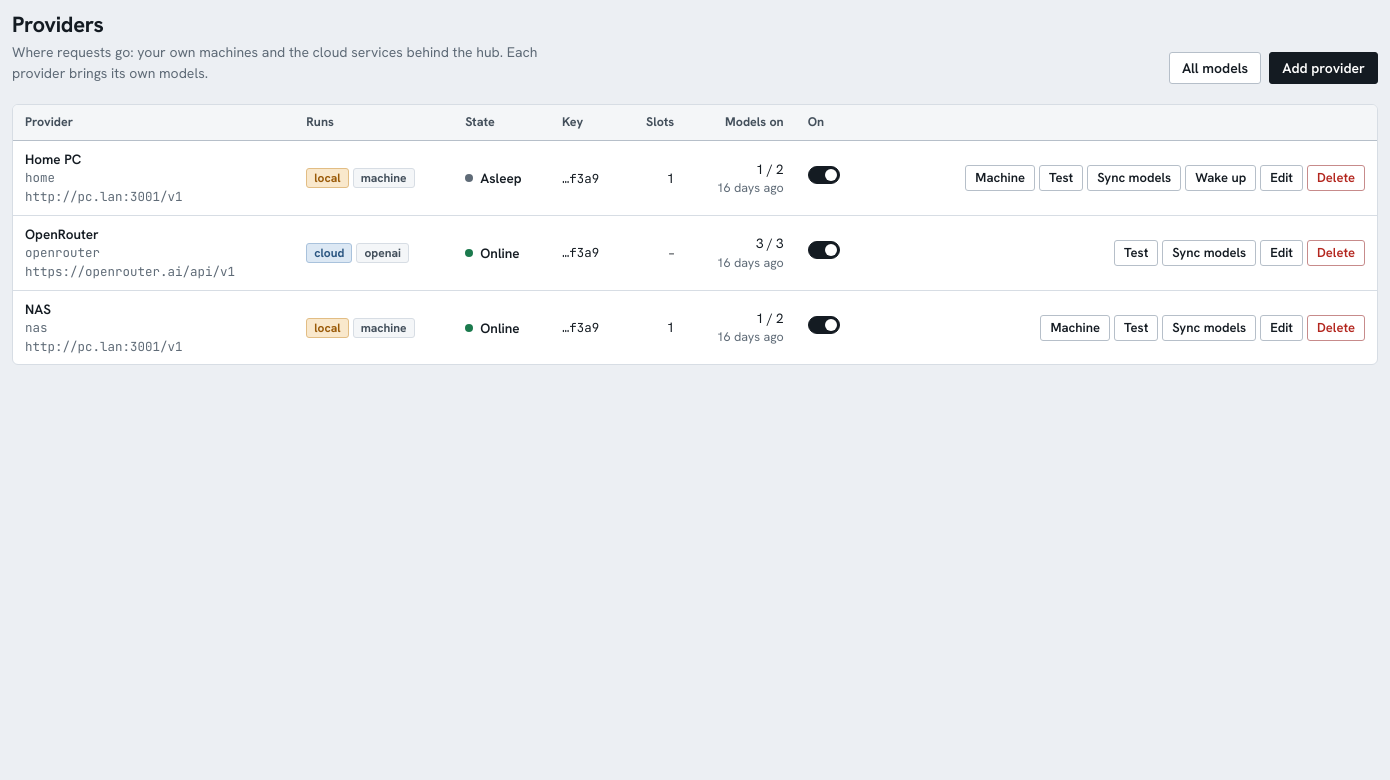
Test: providers › wakes a machine that is not online, and only that
This screenshot has width=1390, height=780.
What coordinates should you click on to do the following:
click the button "Wake up"
I would click on:
 (1221, 178)
Its box is [1185,165,1256,191].
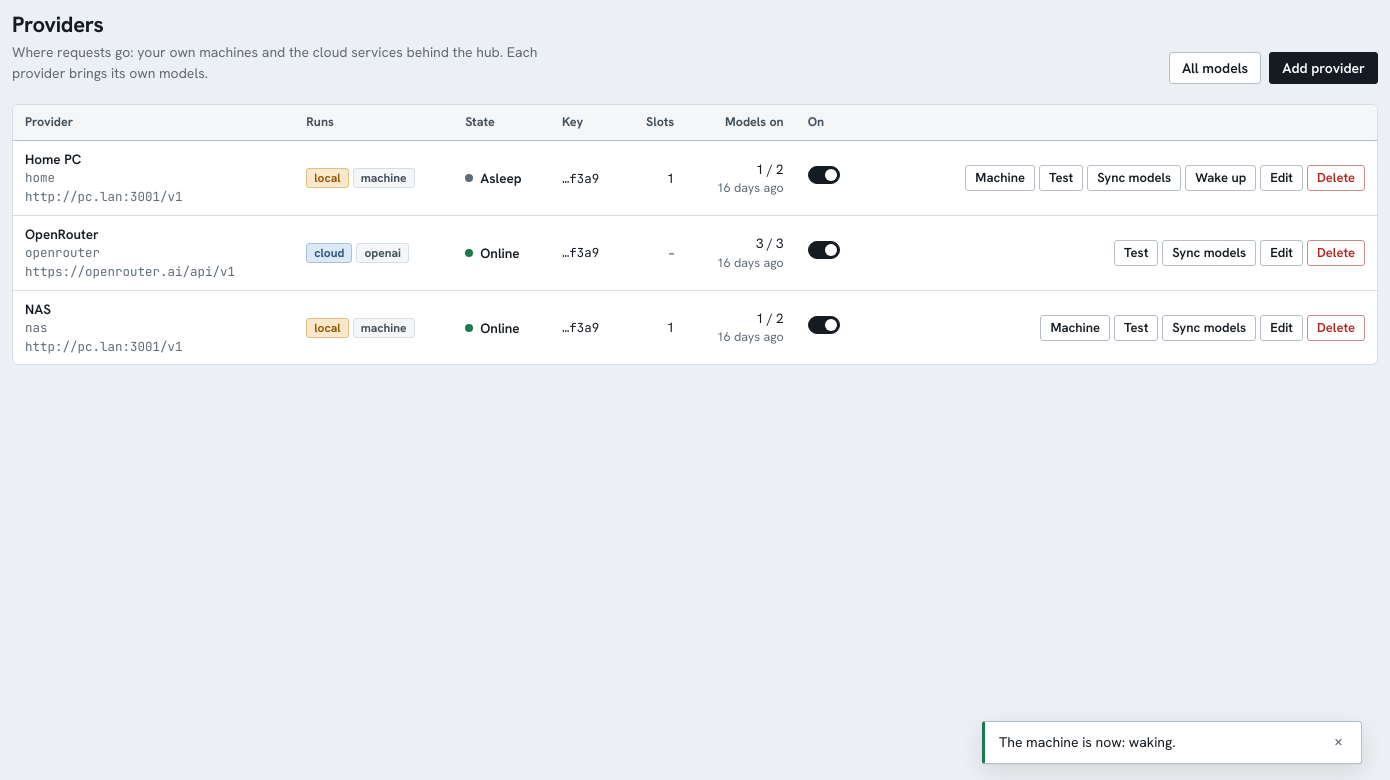
Check: the text "The machine is now: waking." is shown, box [999,732,1176,753]
